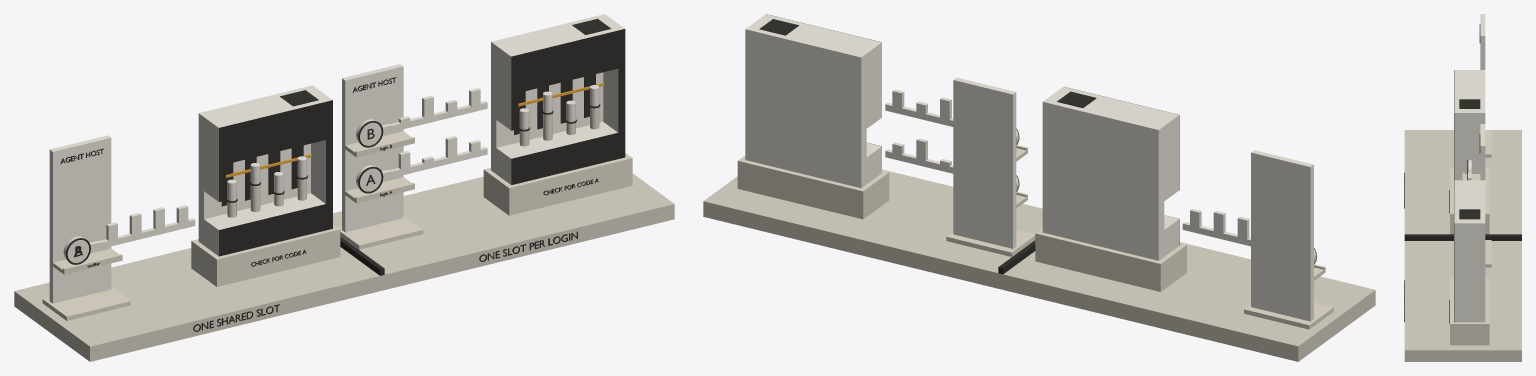
The picture shows the model from 3 angles, left to right: view 1: azimuth 30°, elevation 25°; view 2: azimuth 150°, elevation 25°; view 3: azimuth 270°, elevation 25°; orthographic projection. The views are drawn at different scales.
Parts seen in each view (by area): view 1: Plinth, L1_Rack_back, L2_Rack_back, L1_Lock_plinth, L2_Lock_plinth, L2_Lock_cut_top, L1_Lock_cut_top, L2_Lock_back, L1_Lock_back, L2_Lock_cut_bot, L1_Lock_cut_bot, L1_Lock_top (+14 smaller); view 2: Plinth, L2_Lock_back, L1_Lock_back, L2_Rack_back, L1_Rack_back, L2_Lock_plinth, L1_Lock_plinth, L2_Lock_top, L1_Lock_top, L1_Lock_bottom, L2_Lock_bottom, L1_Lock_face_top (+8 smaller); view 3: Plinth, L2_Lock_end, L2_Lock_top, L1_Lock_end, L2_Lock_plinth, L1_Lock_top, L2_Lock_back, L1_Lock_plinth, Divider, L1_Lock_back, L2_Lock_bottom, L2_Rack_back (+5 smaller).
Boxes of the visible parts, left/top/right/bottom form: Plinth: left=14, top=173, right=674, bottom=361; L1_Rack_back: left=49, top=135, right=111, bottom=303; L2_Rack_back: left=342, top=64, right=403, bottom=232; L1_Lock_plinth: left=191, top=224, right=340, bottom=286; L2_Lock_plinth: left=483, top=153, right=632, bottom=215; L2_Lock_cut_top: left=511, top=29, right=625, bottom=94; L1_Lock_cut_top: left=219, top=100, right=332, bottom=165; L2_Lock_back: left=491, top=14, right=609, bottom=173; L1_Lock_back: left=198, top=85, right=317, bottom=244; L2_Lock_cut_bot: left=511, top=131, right=625, bottom=184; L1_Lock_cut_bot: left=219, top=203, right=332, bottom=256; L1_Lock_top: left=198, top=86, right=332, bottom=165; Plinth: left=703, top=169, right=1375, bottom=361; L2_Lock_back: left=745, top=25, right=866, bottom=187; L1_Lock_back: left=1042, top=98, right=1164, bottom=260; L2_Rack_back: left=953, top=77, right=1016, bottom=248; L1_Rack_back: left=1251, top=150, right=1313, bottom=321; L2_Lock_plinth: left=737, top=155, right=889, bottom=219; L1_Lock_plinth: left=1035, top=228, right=1186, bottom=291; L2_Lock_top: left=745, top=14, right=881, bottom=95; L1_Lock_top: left=1042, top=86, right=1179, bottom=166; L1_Lock_bottom: left=1042, top=206, right=1179, bottom=260; L2_Lock_bottom: left=745, top=134, right=881, bottom=187; L1_Lock_face_top: left=1152, top=115, right=1179, bottom=203; Plinth: left=1404, top=130, right=1521, bottom=361; L2_Lock_end: left=1454, top=220, right=1485, bottom=322; L2_Lock_top: left=1454, top=180, right=1485, bottom=252; L1_Lock_end: left=1454, top=110, right=1484, bottom=180; L2_Lock_plinth: left=1450, top=277, right=1489, bottom=345; L1_Lock_top: left=1454, top=70, right=1485, bottom=123; L2_Lock_back: left=1477, top=180, right=1485, bottom=322; L1_Lock_plinth: left=1450, top=167, right=1489, bottom=234; Divider: left=1404, top=234, right=1521, bottom=240; L1_Lock_back: left=1477, top=70, right=1485, bottom=173; L2_Lock_bottom: left=1454, top=302, right=1485, bottom=322; L2_Rack_back: left=1480, top=124, right=1485, bottom=180.
Size of the model in its own units: 10 by 2.81 by 2.26.
